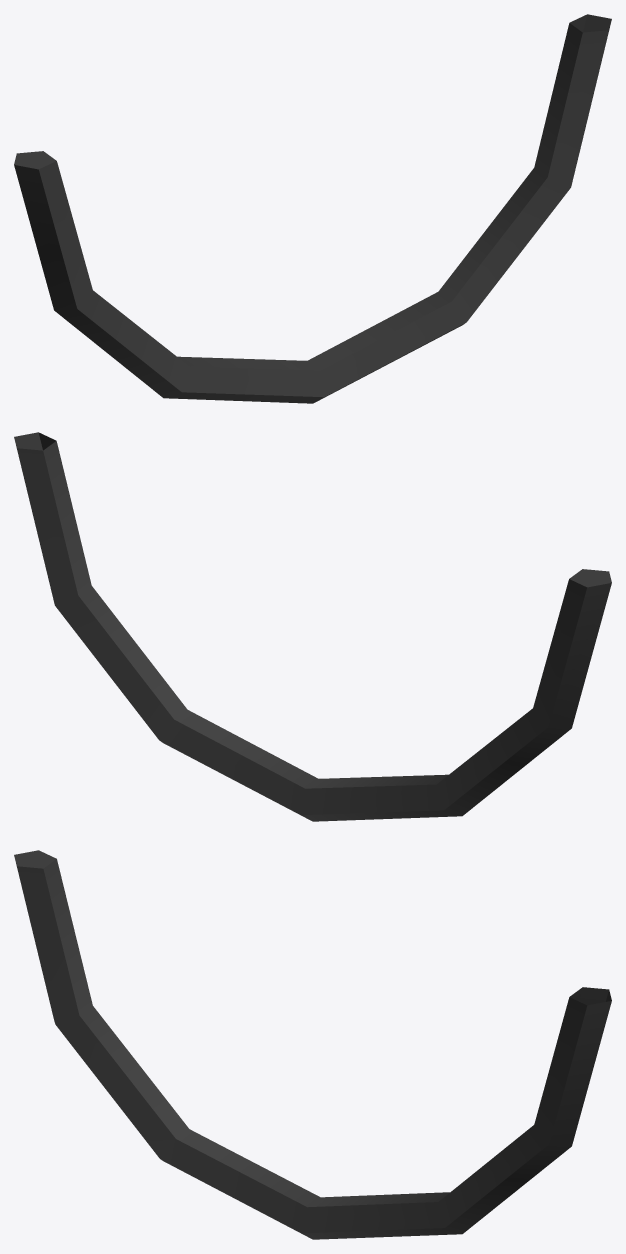
Rendered from SM_Prop_Detail_Wire_05.fbx.
3 renders of one model, top to bottom at view 1: azimuth 30°, elevation 25°; view 2: azimuth 150°, elevation 25°; view 3: azimuth 330°, elevation 25°, orthographic.
Visible parts, largest first — view 1: SM_Prop_Detail_Wire_05_LOD0; view 2: SM_Prop_Detail_Wire_05_LOD0; view 3: SM_Prop_Detail_Wire_05_LOD0.
Part boxes in pixels (<box>): SM_Prop_Detail_Wire_05_LOD0: <box>14,14,611,403</box>; SM_Prop_Detail_Wire_05_LOD0: <box>14,432,611,821</box>; SM_Prop_Detail_Wire_05_LOD0: <box>14,850,611,1239</box>.
Bounding box in the file's own units: 2.01 × 31.73 × 15.81.
Materials: 1 (1 with a texture image).
